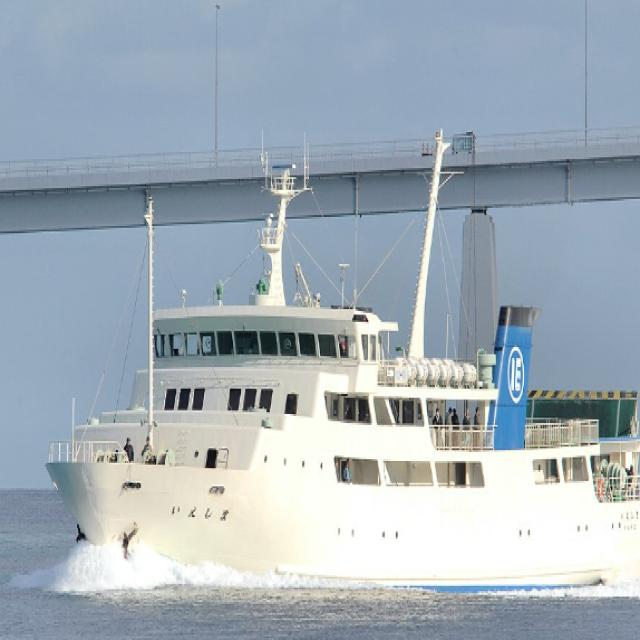passenger ship: (50, 157, 640, 578)
